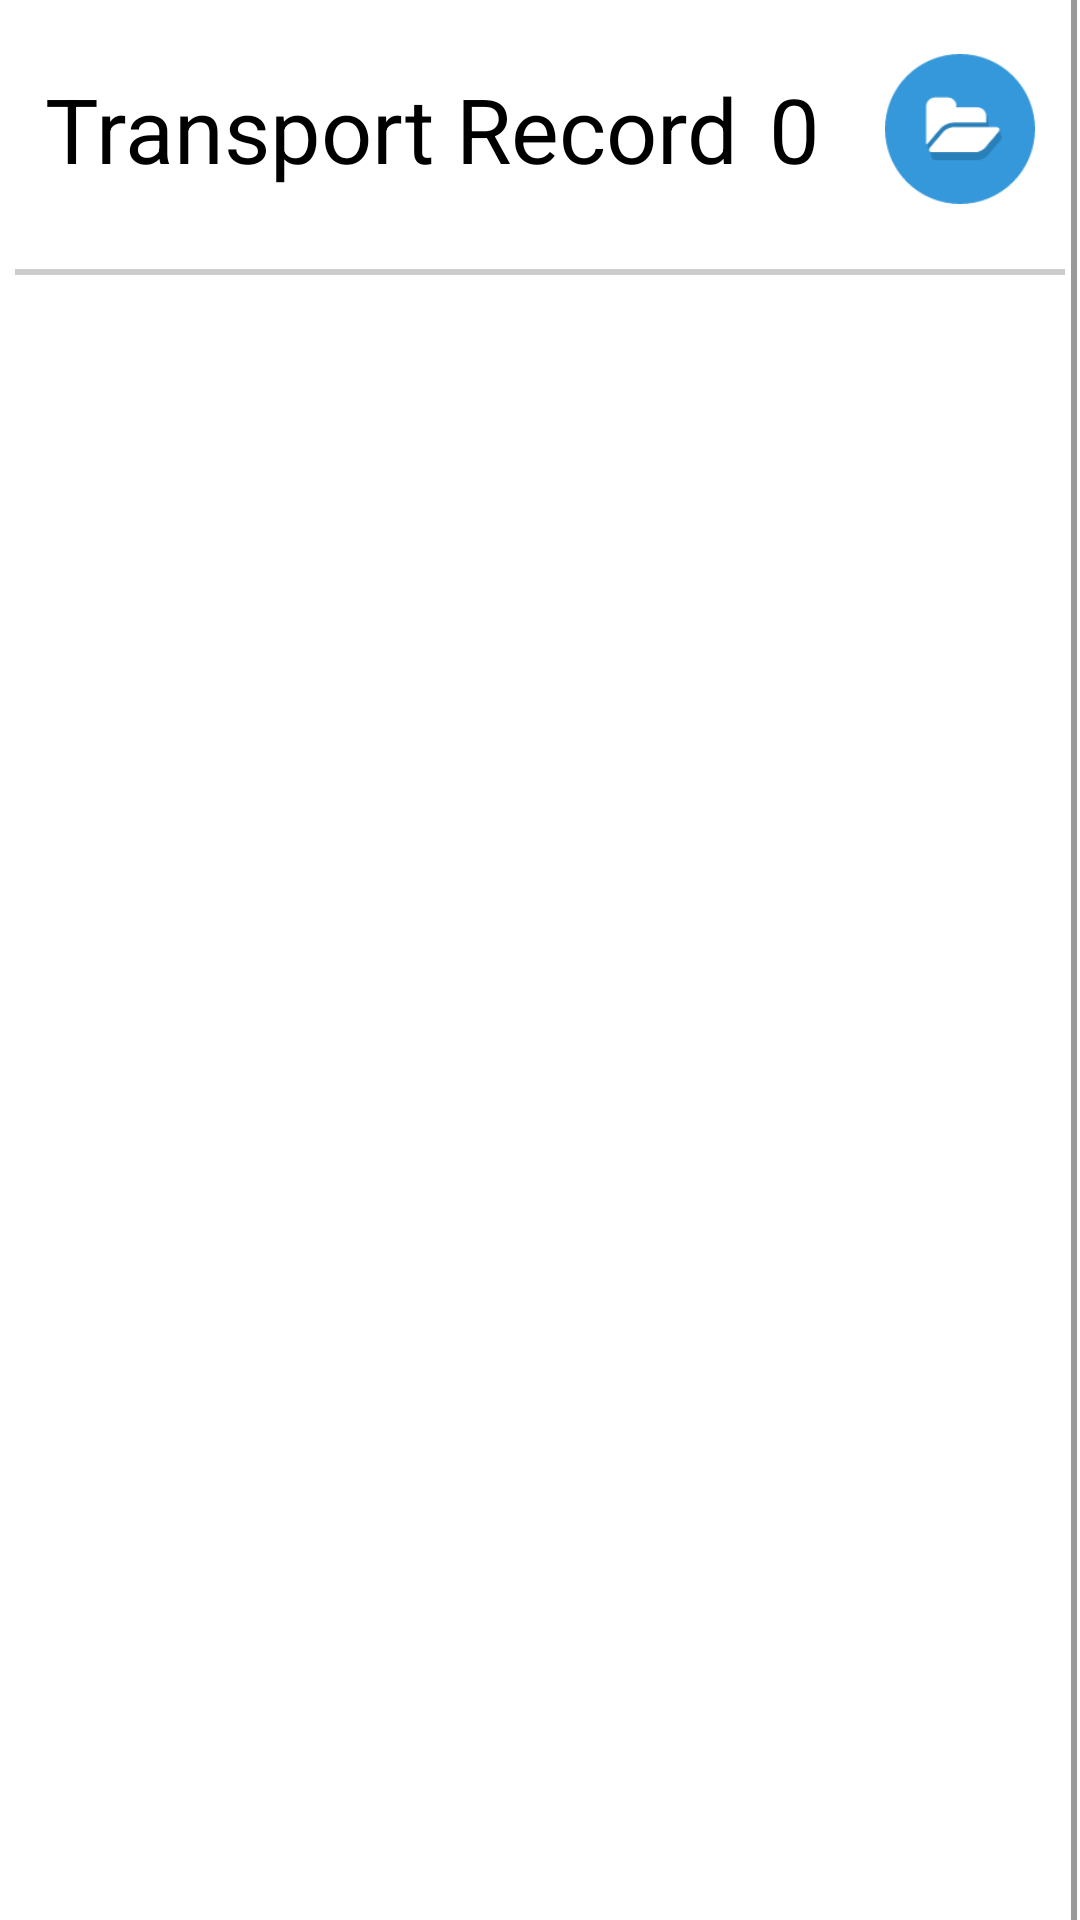

Icon bounding boxes for this 1080×1920 phone screenshot, format (x1, y1, x2, y2):
folder: (885, 54, 1035, 204)
